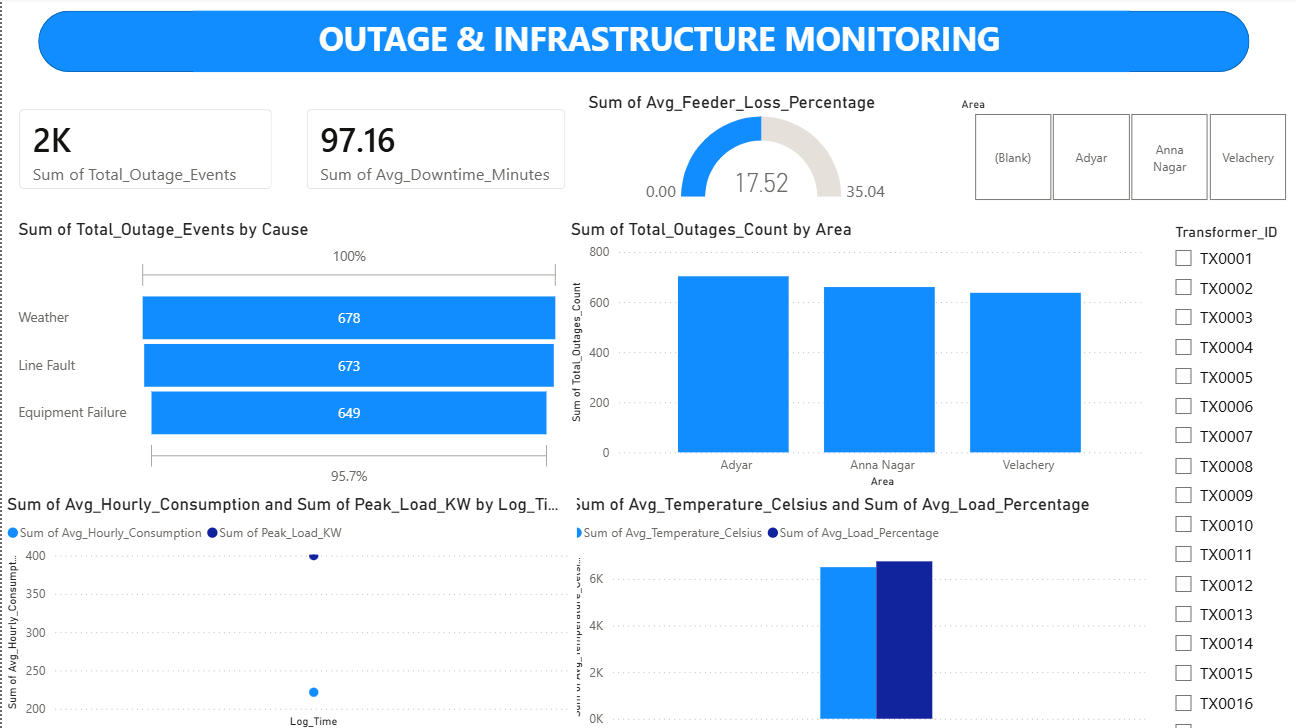

Layout of this report page (visuals, bound fields, positions):
{"tool":"powerbi","page":{"name":"Page 2","canvas":[1280,720],"ordinal":1},"visuals":[{"type":"funnel","fields":{"Category":["Outage_Causes.Cause"],"Y":["Sum(Outage_Causes.Total_Outage_Events)"]},"box":[11,216.4,540.5,269],"z":0},{"type":"lineClusteredColumnComboChart","fields":{"Y":["Sum(Transformer_Overload.Avg_Temperature_Celsius)","Sum(Transformer_Overload.Avg_Load_Percentage)"]},"box":[551.5,485.5,572.3,234.8],"z":1000},{"type":"columnChart","fields":{"Category":["High_Outage_Areas.Area"],"Y":["Sum(High_Outage_Areas.Total_Outages_Count)"]},"box":[551.5,216.4,572.3,269],"z":2000},{"type":"cardVisual","fields":{"Data":["Sum(Outage_KPIs.Total_Outage_Events)"]},"box":[0,92.9,281.3,112.5],"z":3000},{"type":"cardVisual","fields":{"Data":["Sum(Outage_KPIs.Avg_Downtime_Minutes)"]},"box":[281.3,92.9,287.4,112.5],"z":4000},{"type":"gauge","fields":{"Y":["Sum(Feeder_Loss.Avg_Feeder_Loss_Percentage)"]},"box":[568.6,92.9,357.1,112.5],"z":5000},{"type":"areaChart","fields":{"Category":["Hourly_Peak_Load.Log_Time"],"Y":["Sum(Hourly_Peak_Load.Avg_Hourly_Consumption)","Sum(Hourly_Peak_Load.Peak_Load_KW)"]},"box":[0,485.5,562.5,234.8],"z":6000},{"type":"slicer","fields":{"Values":["Transformer_Overload.Transformer_ID"]},"box":[1134.8,216.4,145.5,503.8],"z":7000},{"type":"slicer","fields":{"Values":["High_Outage_Areas.Area"]},"box":[925.7,92.9,354.6,112.5],"z":8000},{"type":"shape","box":[35.5,13.5,1184.9,59.9],"z":8001},{"type":"textbox","box":[187.1,13.5,915.9,59.9],"z":8002}]}

Visuals, with their boxes in screenshot pixels (x1, y1, x2, y2), scaled from the page's 1280x720 canvas onto the 1296x728 screenshot:
funnel - Outage_Causes.Cause x Sum(Outage_Causes.Total_Outage_Events): 11:219:558:491
lineClusteredColumnComboChart - Sum(Transformer_Overload.Avg_Temperature_Celsius) x Sum(Transformer_Overload.Avg_Load_Percentage): 558:491:1138:727
columnChart - High_Outage_Areas.Area x Sum(High_Outage_Areas.Total_Outages_Count): 558:219:1138:491
cardVisual - Sum(Outage_KPIs.Total_Outage_Events): 0:94:285:208
cardVisual - Sum(Outage_KPIs.Avg_Downtime_Minutes): 285:94:576:208
gauge - Sum(Feeder_Loss.Avg_Feeder_Loss_Percentage): 576:94:937:208
areaChart - Hourly_Peak_Load.Log_Time x Sum(Hourly_Peak_Load.Avg_Hourly_Consumption): 0:491:570:727
slicer - Transformer_Overload.Transformer_ID: 1149:219:1295:727
slicer - High_Outage_Areas.Area: 937:94:1295:208
shape: 36:14:1236:74
textbox: 189:14:1117:74
